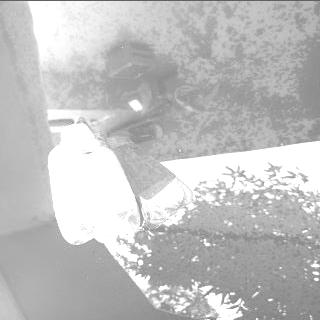bottle: (44, 120, 142, 246)
